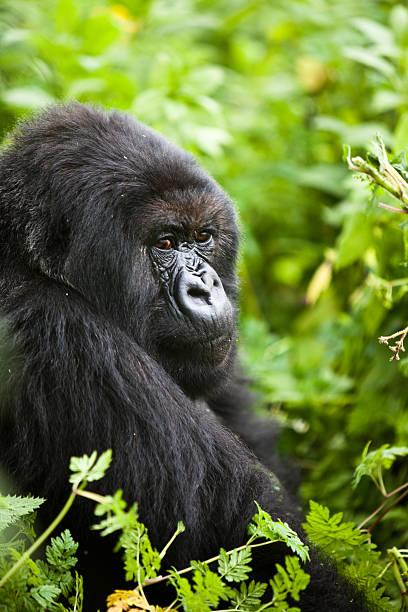goriile_montagne: (0, 69, 362, 612)
